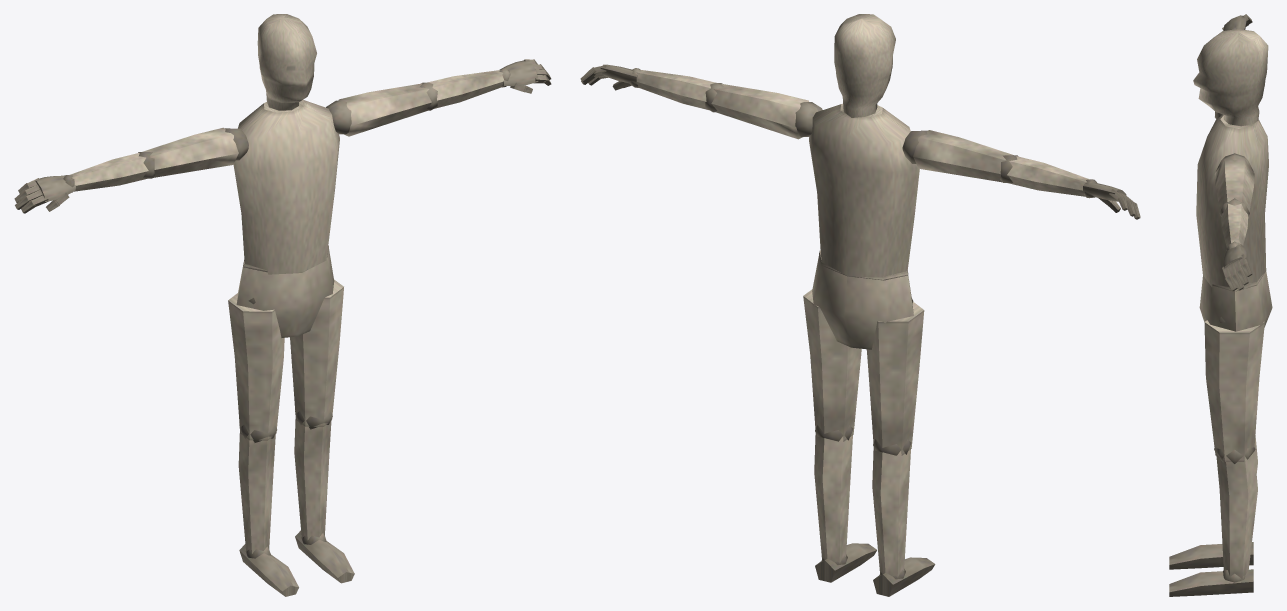
File: mannequin_man.obj
The picture shows the model from 3 angles, left to right: view 1: azimuth 30°, elevation 25°; view 2: azimuth 150°, elevation 25°; view 3: azimuth 270°, elevation 25°; orthographic projection. The views are drawn at different scales.
Visible parts, largest first — view 1: mannequin_man_mesh; view 2: mannequin_man_mesh; view 3: mannequin_man_mesh.
Boxes of the visible parts, bbox=[...] form: mannequin_man_mesh: bbox=[14, 14, 551, 596]; mannequin_man_mesh: bbox=[580, 14, 1140, 596]; mannequin_man_mesh: bbox=[1169, 14, 1272, 596].
Size of the model in its own units: 1.81 by 1.76 by 0.3.
Materials: 1 (1 with a texture image).
